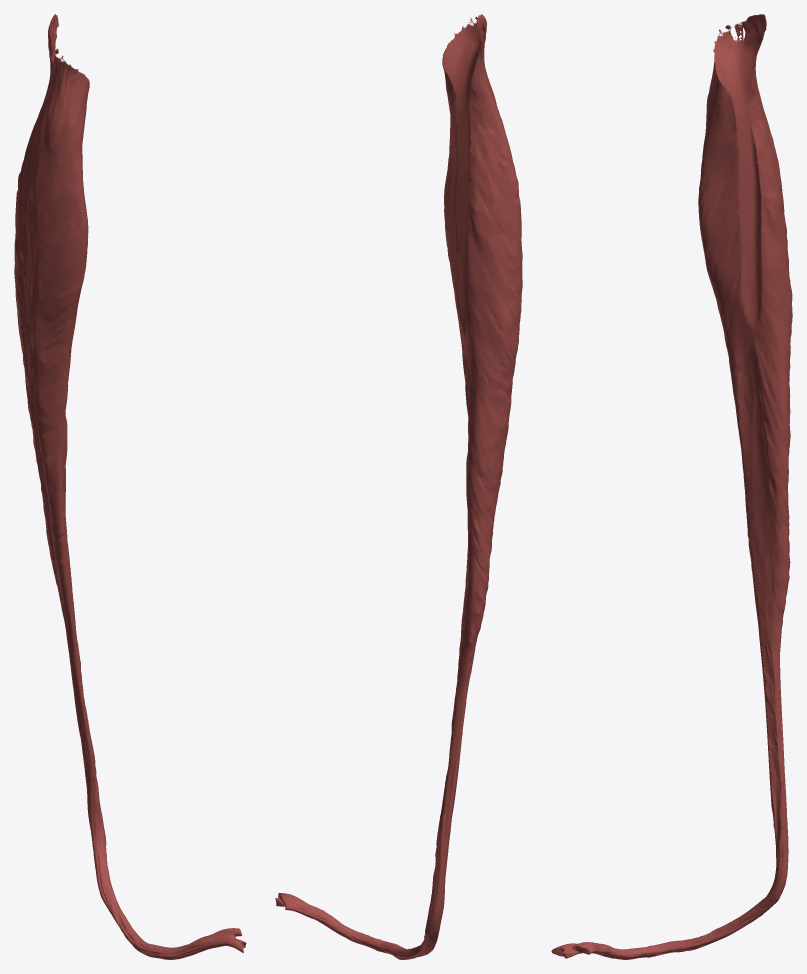
The model's file is FMA22552.glb.
3 renders of one model, left to right at view 1: azimuth 30°, elevation 25°; view 2: azimuth 210°, elevation 25°; view 3: azimuth 270°, elevation 25°, orthographic. The views are drawn at different scales.
Parts seen in each view (by area): view 1: FMA22552; view 2: FMA22552; view 3: FMA22552.
Boxes of the visible parts, x1,y1,x2,y2 form: FMA22552: [14, 14, 246, 959]; FMA22552: [275, 14, 522, 959]; FMA22552: [551, 14, 792, 959].
Bounding box in the file's own units: 0.057 × 0.3672 × 0.0868.
